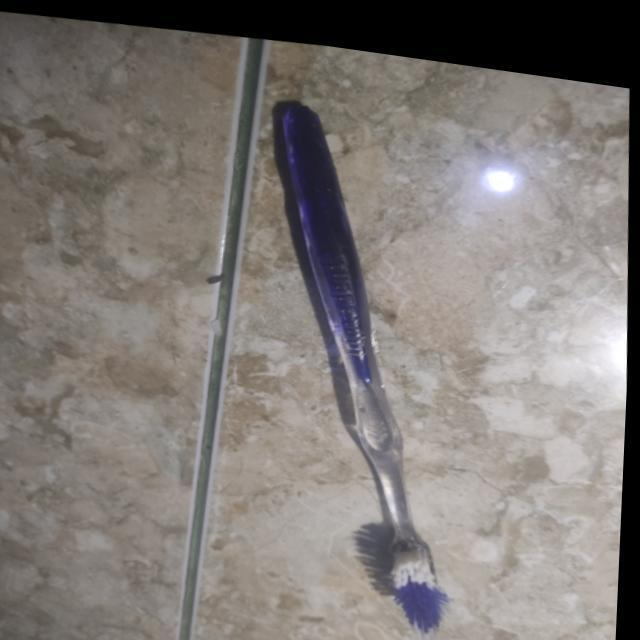toothbrush: (252, 85, 473, 620)
